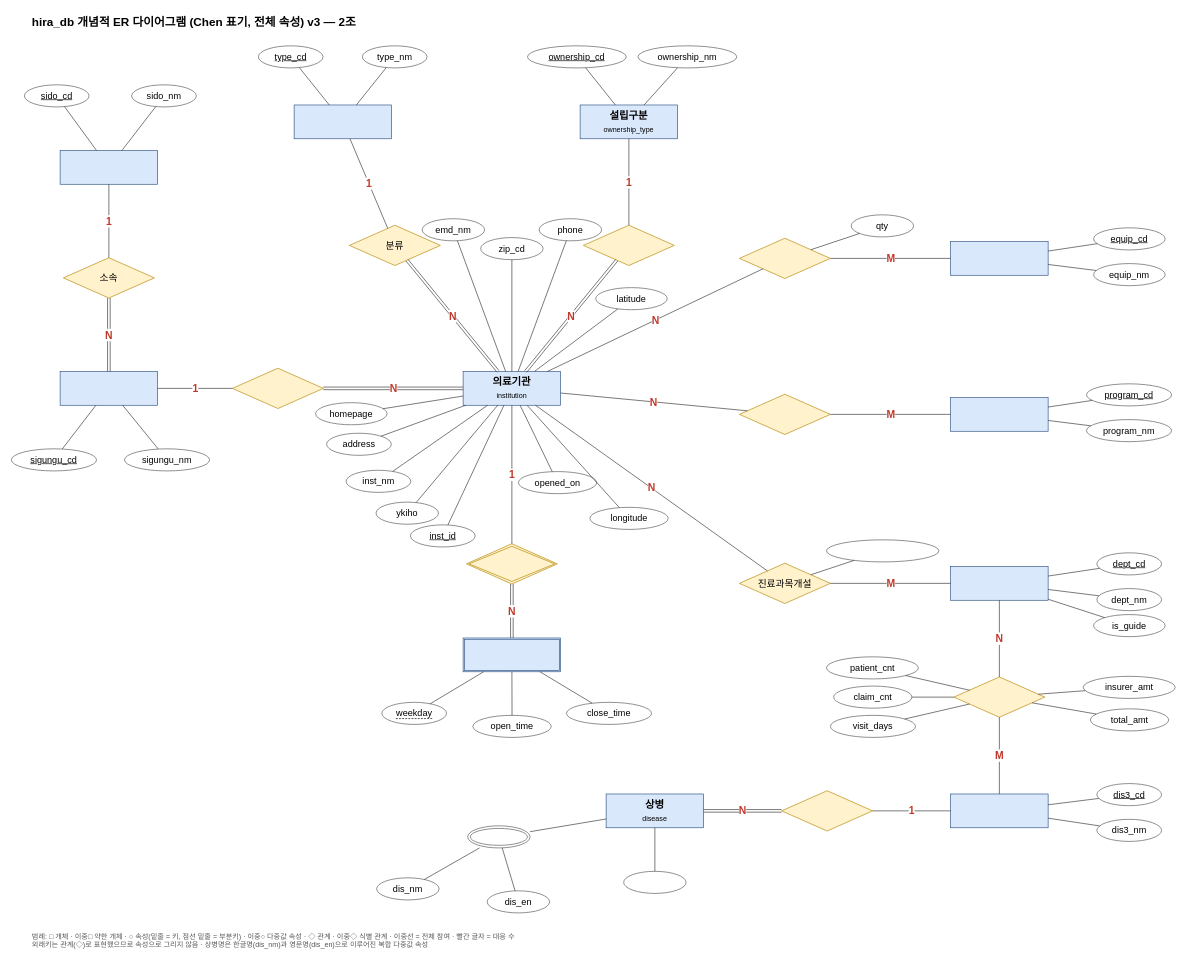
Some shapes in this 1187 by 965 pixel diagram are drawn without their labels. The centre of each missing label's shape, as x and y in pixels:
3단 상병 disease3: [999,810]
dis_cd: [654,882]
specialist_cnt: [882,550]
사업지정: [784,414]
상병명: [498,836]
설립: [628,245]
시군구 sigungu: [108,388]
시도 sido: [108,167]
운영: [511,563]
위치: [277,388]
의료장비 equipment_type: [999,258]
장비보유: [784,258]
종별 institution_type: [342,121]
지정사업 program: [999,414]
진료과목 dept: [999,583]
진료시간 business_hours: [511,654]
진료통계: [999,696]
포함: [827,810]
